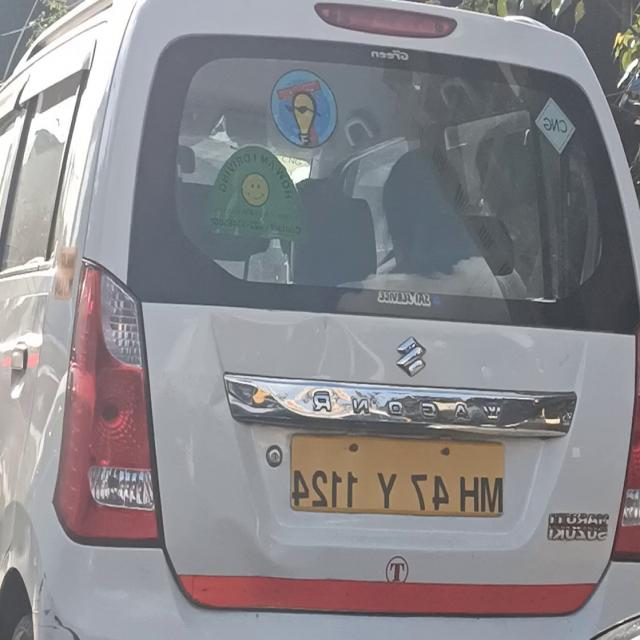license_plate: (280, 427, 508, 524)
